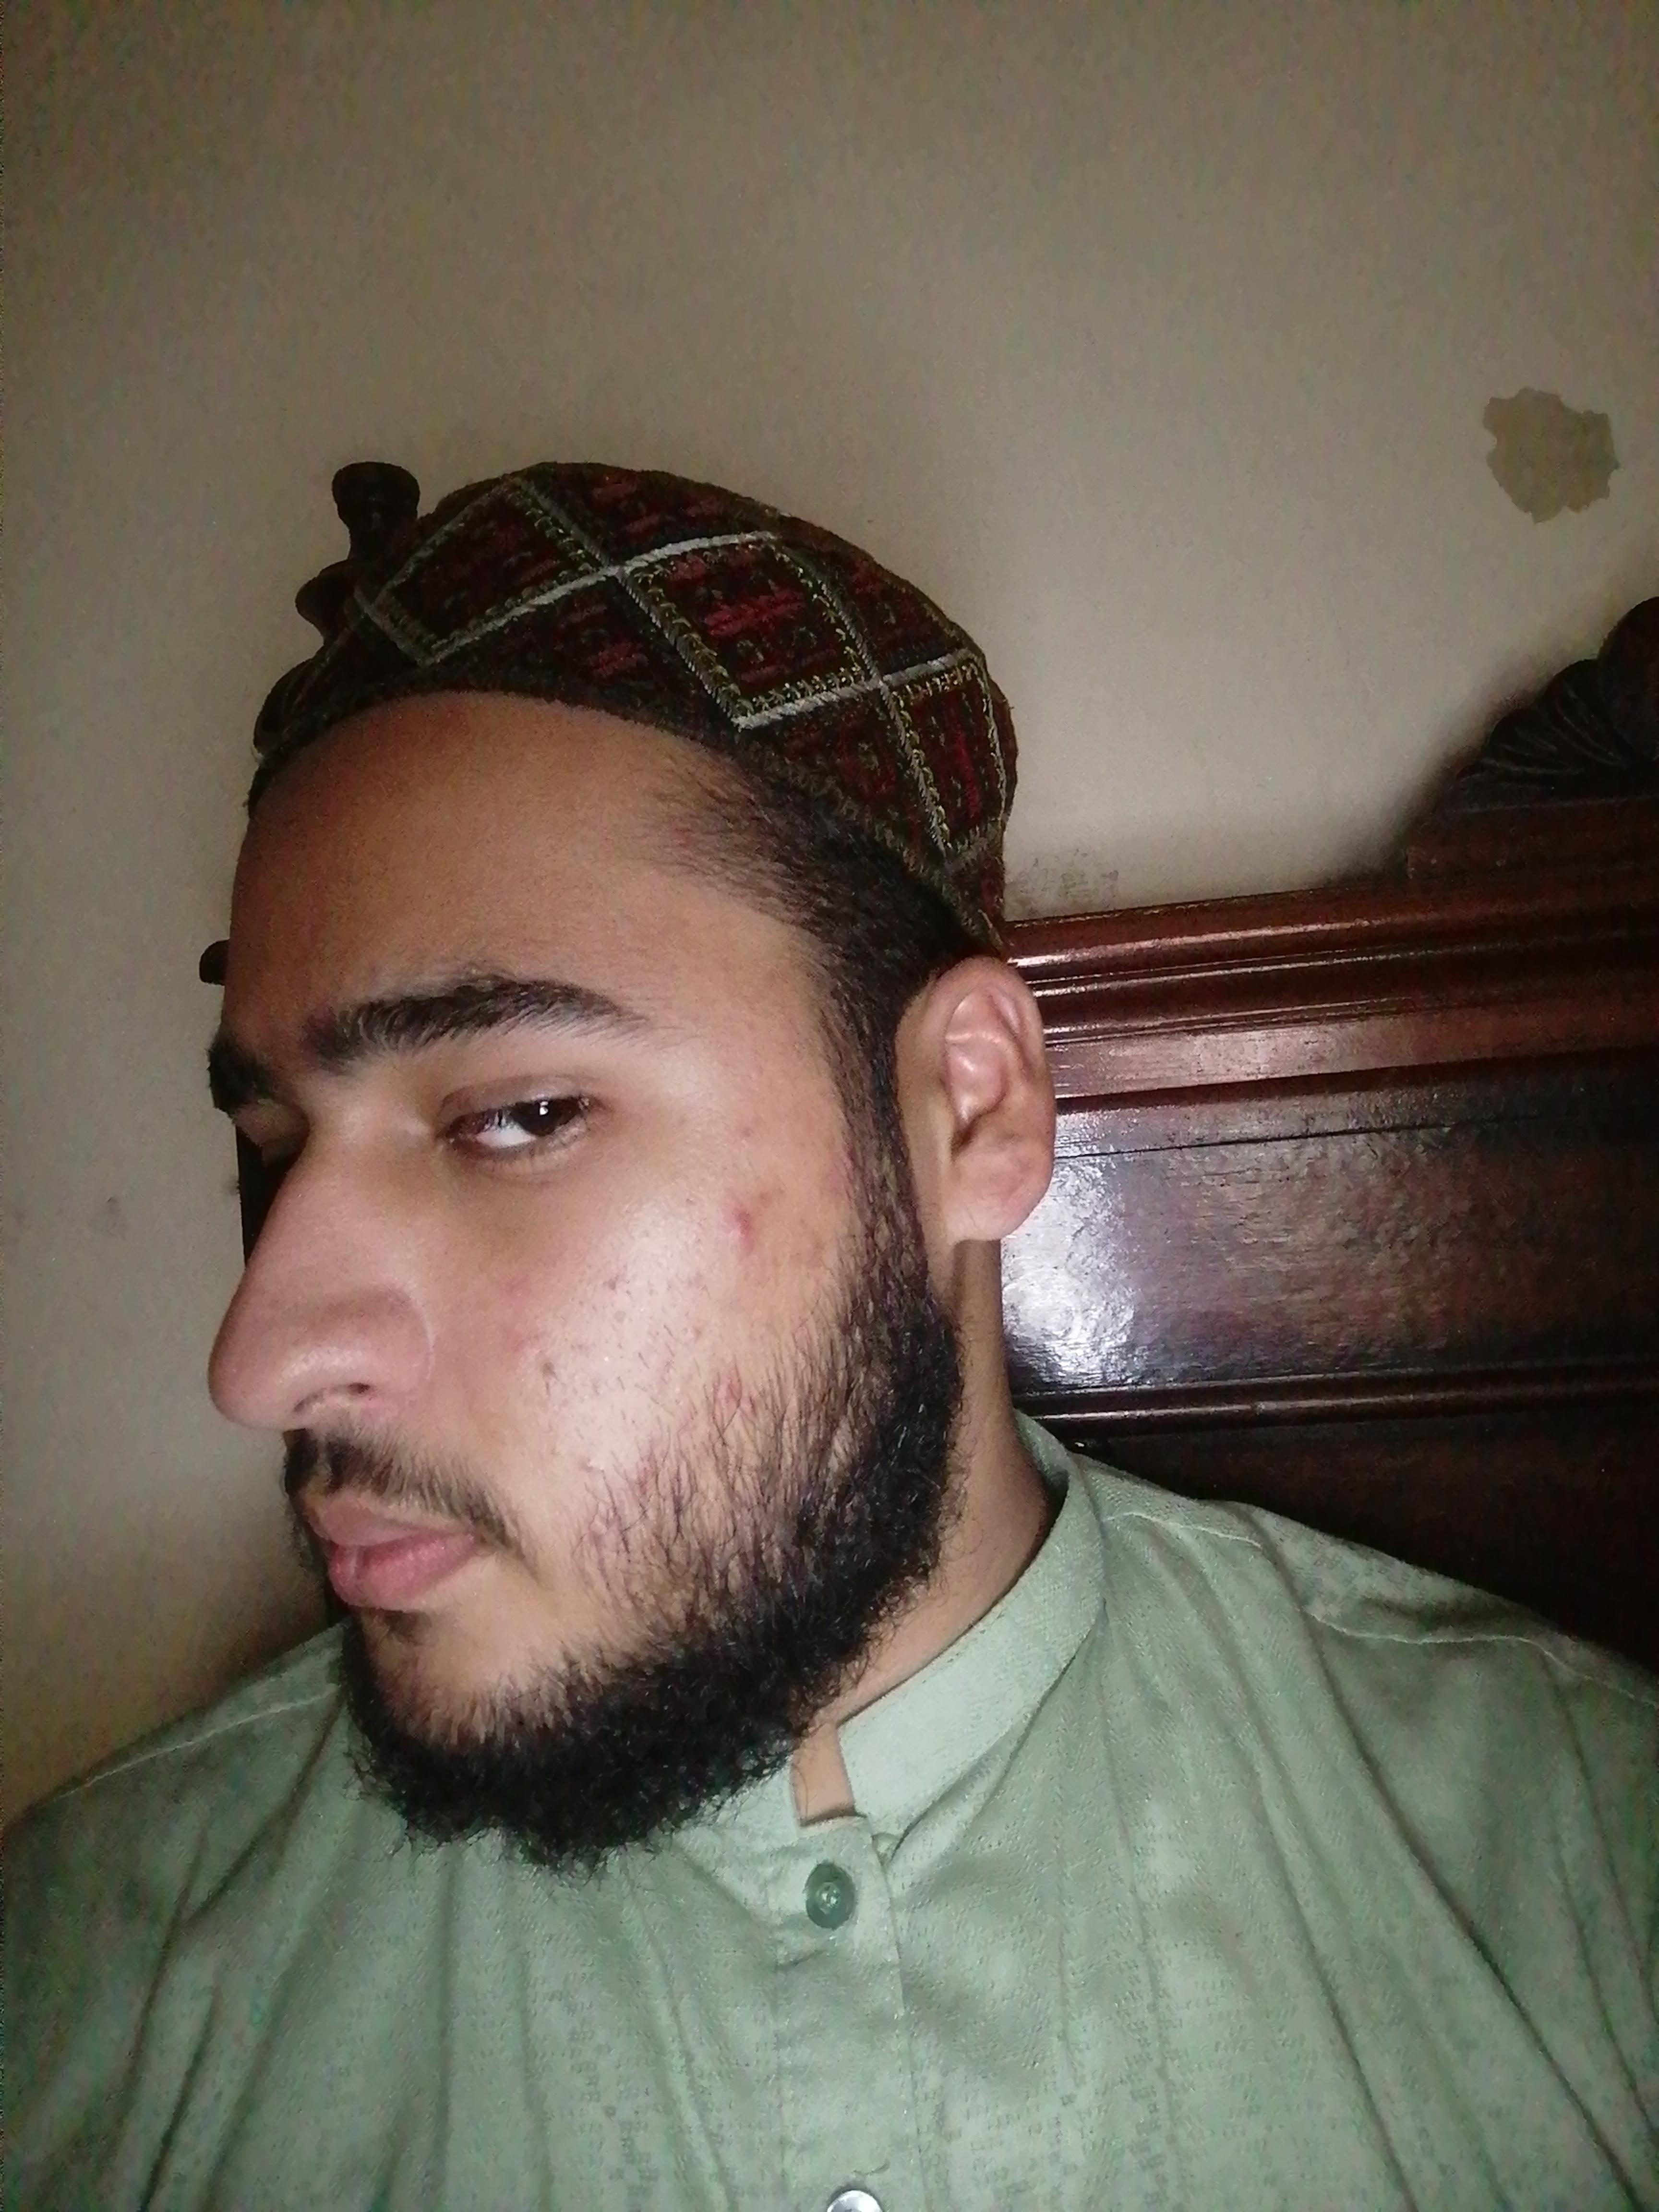Acne: (720, 1186, 765, 1249), (821, 1134, 849, 1209), (702, 1374, 739, 1414), (504, 1327, 549, 1359), (629, 1454, 664, 1494), (504, 1264, 530, 1298)
Blackheads: (568, 1258, 657, 1318)
